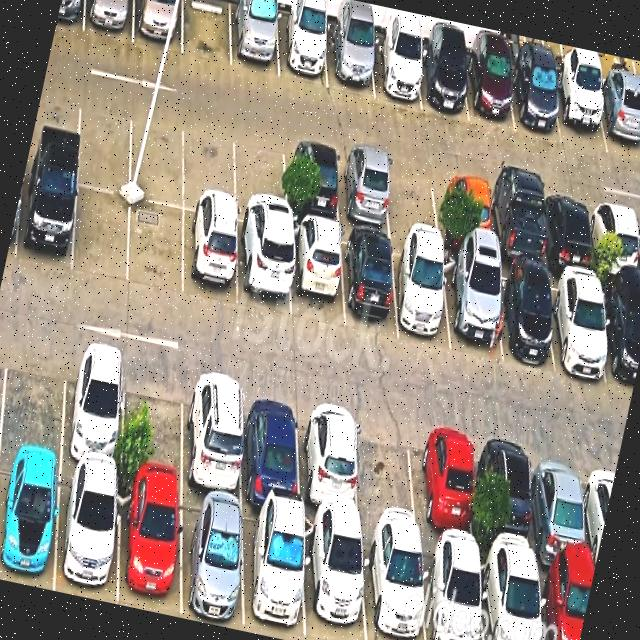empty: (354, 406, 420, 538), (0, 331, 67, 460), (122, 355, 184, 489), (129, 105, 186, 208), (72, 186, 130, 283), (76, 93, 131, 194), (128, 198, 183, 298), (234, 127, 286, 231), (183, 117, 235, 219), (385, 157, 439, 241), (182, 0, 231, 66)
occupied: (54, 464, 118, 601), (180, 491, 243, 628), (61, 341, 124, 475), (242, 504, 304, 640), (0, 453, 61, 590), (119, 478, 180, 614), (416, 417, 475, 551), (299, 395, 359, 526), (183, 368, 242, 501), (304, 516, 366, 640), (533, 440, 590, 571), (242, 381, 299, 511), (484, 429, 537, 561), (362, 531, 425, 640), (547, 269, 608, 381), (491, 263, 554, 367), (15, 169, 77, 273), (442, 254, 502, 361), (392, 241, 450, 350), (421, 540, 483, 640), (341, 230, 398, 336), (289, 220, 343, 328), (479, 552, 542, 640), (183, 210, 237, 307), (486, 178, 544, 267), (236, 223, 290, 318), (284, 138, 339, 225), (598, 279, 640, 392), (436, 168, 491, 254), (551, 71, 607, 153), (337, 148, 391, 233), (537, 562, 594, 640), (542, 188, 594, 272), (589, 197, 640, 281), (510, 59, 561, 143), (465, 51, 514, 131), (416, 45, 468, 120), (276, 11, 327, 87), (370, 34, 421, 109), (594, 79, 640, 160), (230, 0, 278, 77), (326, 25, 373, 96), (132, 0, 182, 53), (83, 0, 133, 42)
